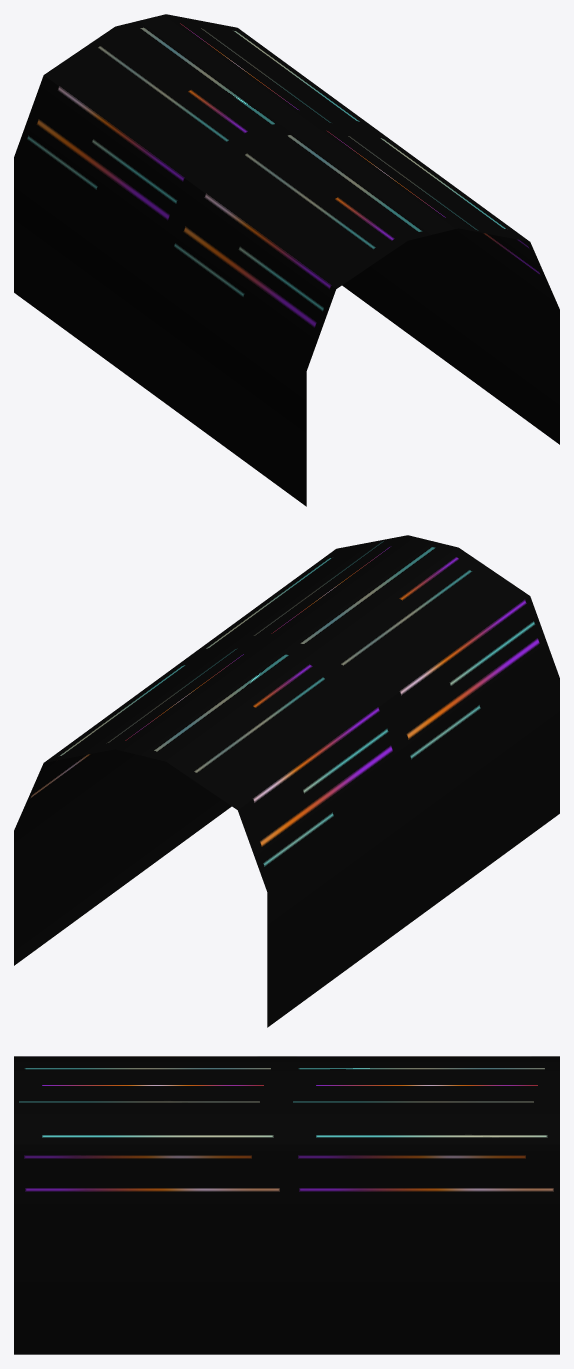
File: Decoration02_Art.glb
3 renders of one model, top to bottom at view 1: azimuth 30°, elevation 25°; view 2: azimuth 150°, elevation 25°; view 3: azimuth 270°, elevation 25°, orthographic. The views are drawn at different scales.
Parts seen in each view (by area): view 1: Decoration02_Art; view 2: Decoration02_Art; view 3: Decoration02_Art.
Part boxes in pixels (x1,y1,x2,y2): Decoration02_Art: (14, 14, 559, 506); Decoration02_Art: (14, 535, 559, 1027); Decoration02_Art: (14, 1056, 559, 1354).
Bounding box in the file's own units: 5 × 4.55 × 10.
1 material, 1 textured.
